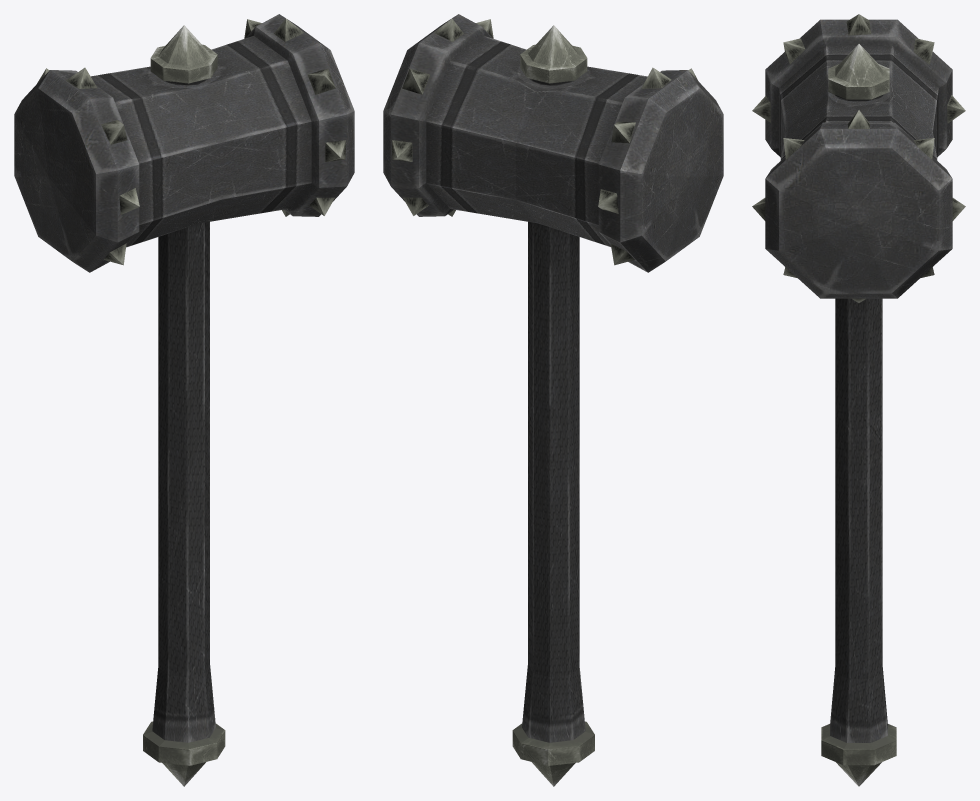
File: hammer02_2.fbx
3 renders of one model, left to right at view 1: azimuth 30°, elevation 25°; view 2: azimuth 150°, elevation 25°; view 3: azimuth 270°, elevation 25°, orthographic. The views are drawn at different scales.
Visible parts, largest first — view 1: Cylinder; view 2: Cylinder; view 3: Cylinder.
Part boxes in pixels (<box>): Cylinder: <box>14,14,354,786</box>; Cylinder: <box>383,14,723,786</box>; Cylinder: <box>752,14,965,786</box>.
Bounding box in the file's own units: 165 × 115 × 441.
1 material, 1 textured.
